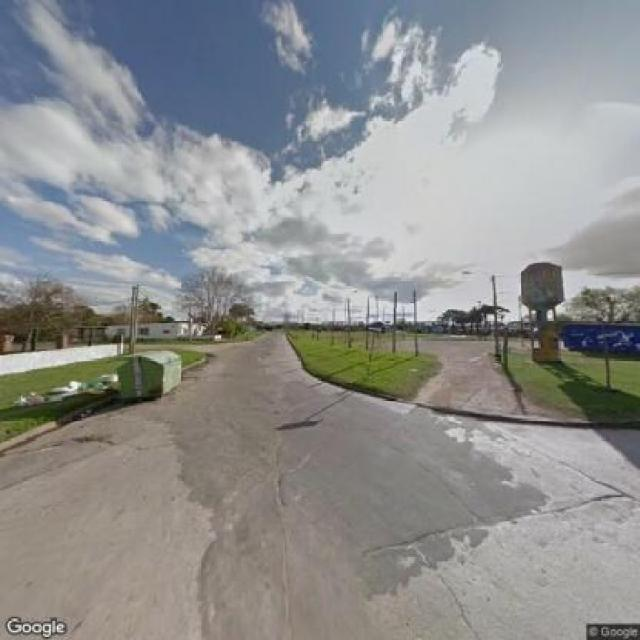garbage: (20, 388, 117, 408), (75, 376, 116, 390)
